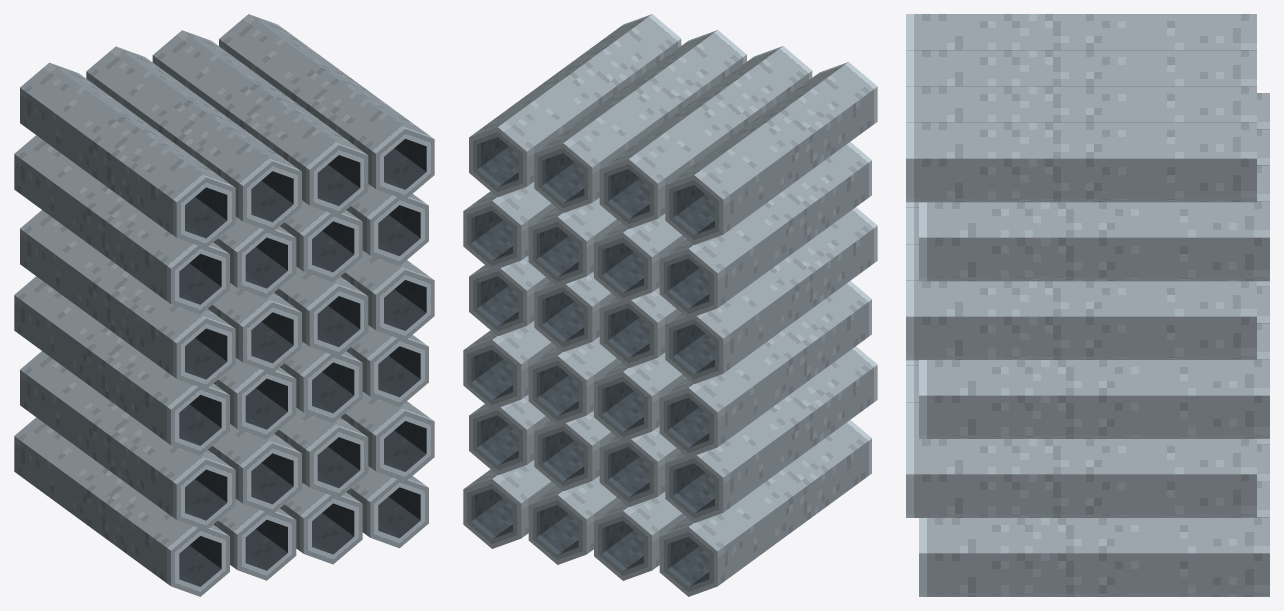
Rendered from f_pipe_stack_mid.glb.
3 views of the same model, side by side, from view 1: azimuth 30°, elevation 25°; view 2: azimuth 150°, elevation 25°; view 3: azimuth 270°, elevation 25° (orthographic). The views are drawn at different scales.
Visible parts, largest first — view 1: block_open-ended-pipe-outer-1 (×24), block_open-ended-pipe-outer-2 (×9), block_open-ended-pipe-inner-4 (×24), block_open-ended-pipe-inner-5 (×24), block_open-ended-pipe-outer-0 (×4); view 2: block_open-ended-pipe-outer-1 (×24), block_open-ended-pipe-outer-2 (×9), block_open-ended-pipe-inner-4 (×24), block_open-ended-pipe-inner-5 (×24), block_open-ended-pipe-outer-0 (×4); view 3: block_open-ended-pipe-outer-0 (×13), block_open-ended-pipe-outer-5 (×6), block_open-ended-pipe-outer-4 (×6).
Boxes of the visible parts, left/top/right/bottom form: block_open-ended-pipe-outer-1 (×24): left=14, top=14, right=404, bottom=550; block_open-ended-pipe-outer-2 (×9): left=14, top=39, right=375, bottom=585; block_open-ended-pipe-inner-4 (×24): left=179, top=148, right=426, bottom=586; block_open-ended-pipe-inner-5 (×24): left=189, top=139, right=426, bottom=568; block_open-ended-pipe-outer-0 (×4): left=50, top=14, right=433, bottom=187; block_open-ended-pipe-outer-1 (×24): left=492, top=14, right=877, bottom=551; block_open-ended-pipe-outer-2 (×9): left=527, top=39, right=877, bottom=585; block_open-ended-pipe-inner-4 (×24): left=471, top=146, right=714, bottom=586; block_open-ended-pipe-inner-5 (×24): left=471, top=137, right=704, bottom=568; block_open-ended-pipe-outer-0 (×4): left=469, top=14, right=847, bottom=184; block_open-ended-pipe-outer-0 (×13): left=906, top=14, right=1269, bottom=553; block_open-ended-pipe-outer-5 (×6): left=906, top=158, right=1269, bottom=593; block_open-ended-pipe-outer-4 (×6): left=906, top=198, right=1269, bottom=596.
Bounding box in the file's own units: 0.8551 × 1.34 × 0.933.
Materials: 1 (1 with a texture image).
